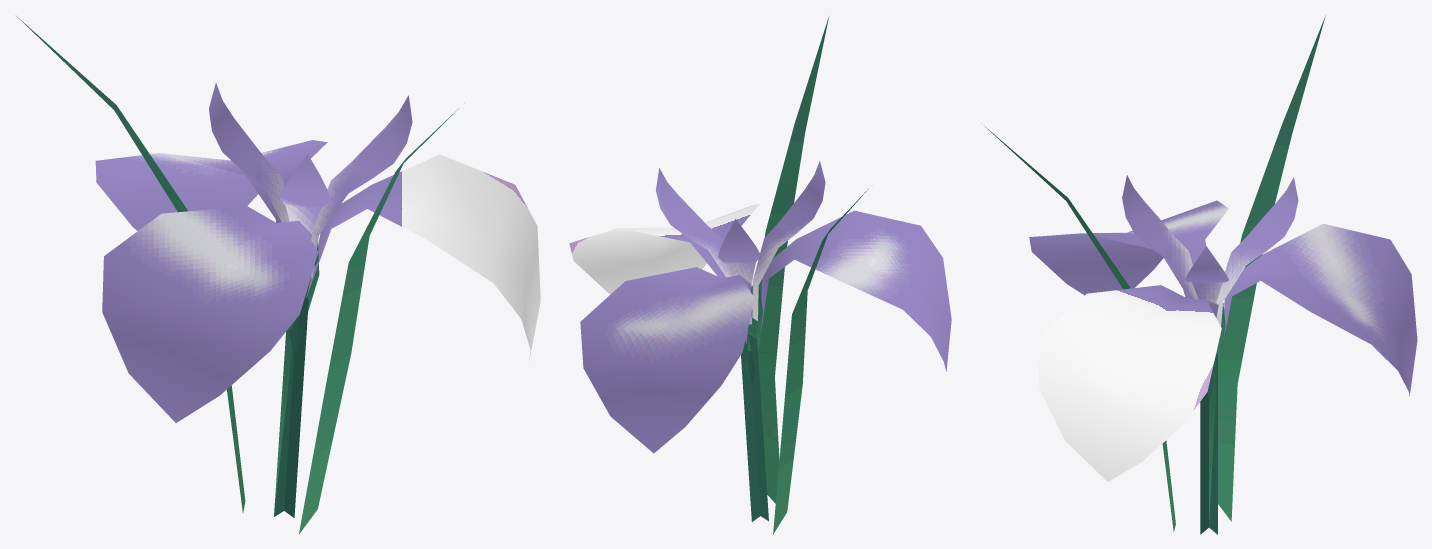
File: ps2_save-icons_iris.glb
The picture shows the model from 3 angles, left to right: view 1: azimuth 30°, elevation 25°; view 2: azimuth 150°, elevation 25°; view 3: azimuth 270°, elevation 25°; orthographic projection. The views are drawn at different scales.
Visible parts, largest first — view 1: iris.ico; view 2: iris.ico; view 3: iris.ico.
Part boxes in pixels (x1=…): iris.ico: x1=16, y1=16, x2=540, y2=533; iris.ico: x1=569, y1=17, x2=951, y2=534; iris.ico: x1=981, y1=15, x2=1417, y2=534.
Bounding box in the file's own units: 4.05 × 4.42 × 4.02.
Materials: 1 (1 with a texture image).
